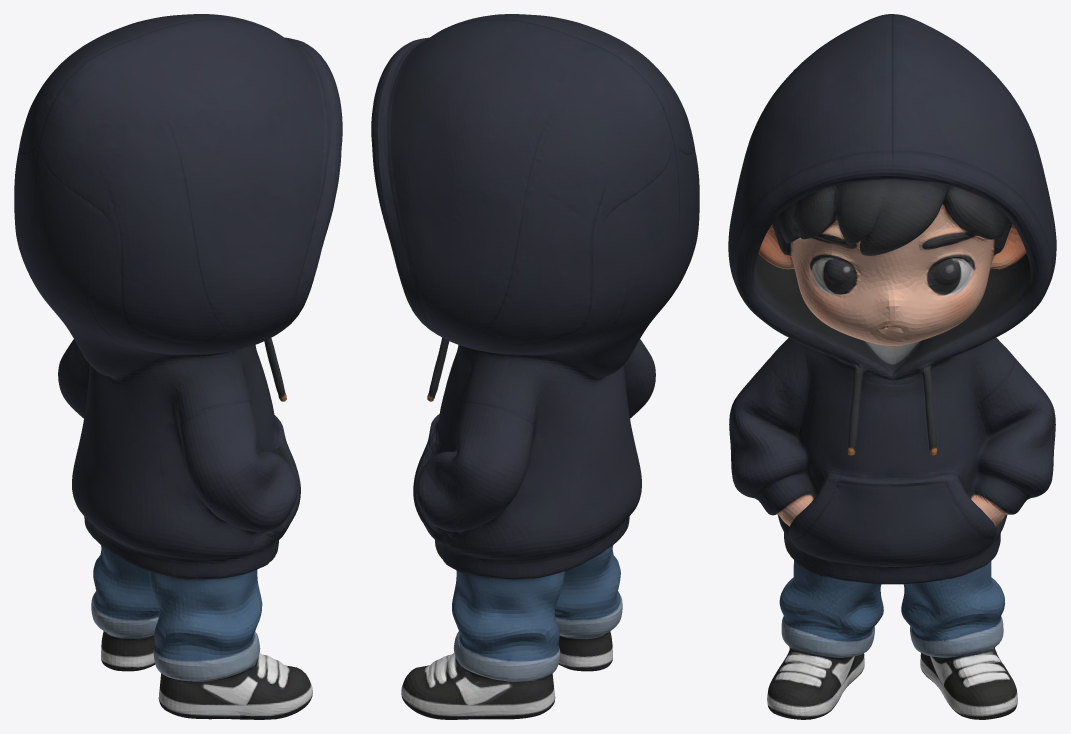
Rendered from male-01.glb.
The picture shows the model from 3 angles, left to right: view 1: azimuth 30°, elevation 25°; view 2: azimuth 150°, elevation 25°; view 3: azimuth 270°, elevation 25°; orthographic projection. The views are drawn at different scales.
Visible parts, largest first — view 1: tripo_node_26d73ea9-5e3b-45f8-a9b1-f8cd69c8450e; view 2: tripo_node_26d73ea9-5e3b-45f8-a9b1-f8cd69c8450e; view 3: tripo_node_26d73ea9-5e3b-45f8-a9b1-f8cd69c8450e.
Boxes of the visible parts, x1,y1,x2,y2 form: tripo_node_26d73ea9-5e3b-45f8-a9b1-f8cd69c8450e: (14,14,342,719); tripo_node_26d73ea9-5e3b-45f8-a9b1-f8cd69c8450e: (371,14,699,719); tripo_node_26d73ea9-5e3b-45f8-a9b1-f8cd69c8450e: (728,14,1056,719).
Bounding box in the file's own units: 0.4482 × 0.9996 × 0.4601.
1 material, 1 textured.
